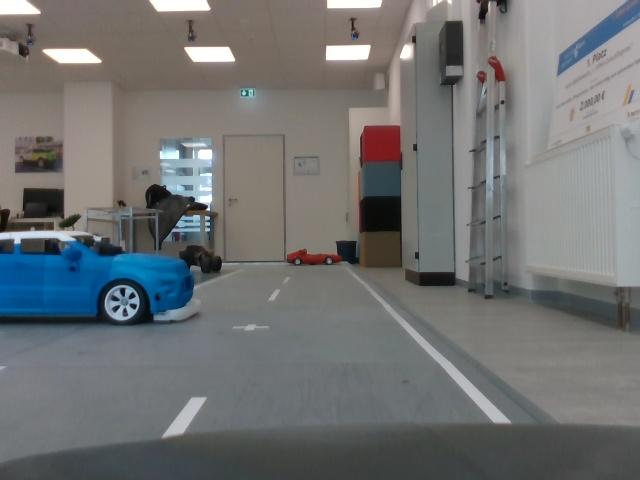car: (2, 231, 205, 325), (175, 242, 226, 277), (286, 248, 346, 270)
